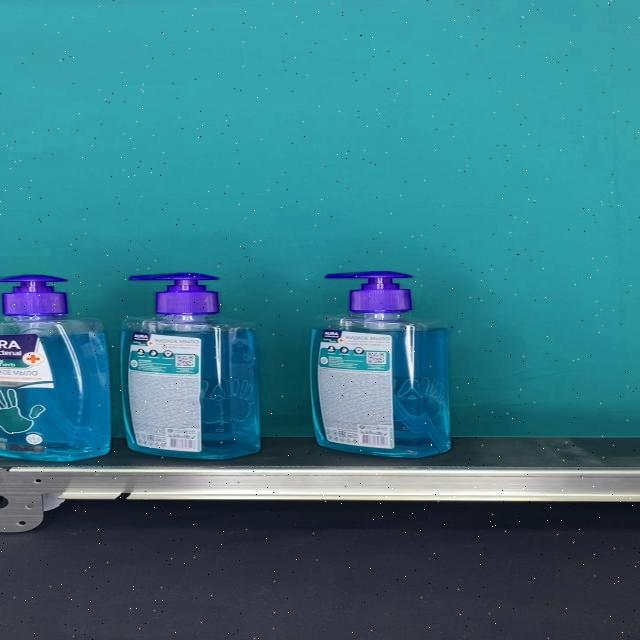Bottle: (308, 270, 451, 458), (120, 272, 260, 459), (0, 273, 112, 462)
Cap: (129, 272, 220, 315), (324, 270, 413, 312), (0, 273, 68, 313)
